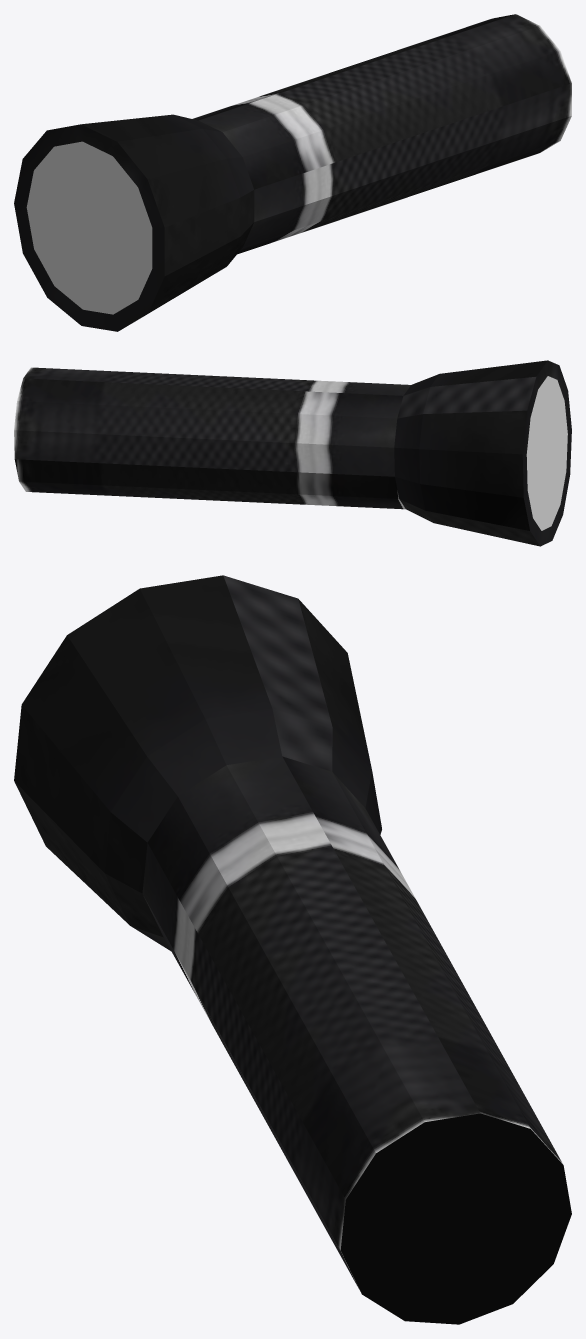
File: Flashlight.glb
The picture shows the model from 3 angles, top to bottom: view 1: azimuth 30°, elevation 25°; view 2: azimuth 150°, elevation 25°; view 3: azimuth 270°, elevation 25°; orthographic projection. The views are drawn at different scales.
Visible parts, largest first — view 1: Cylinder; view 2: Cylinder; view 3: Cylinder.
Boxes of the visible parts, left/top/right/bottom form: Cylinder: left=14, top=14, right=571, bottom=331; Cylinder: left=14, top=360, right=571, bottom=546; Cylinder: left=14, top=575, right=571, bottom=1324.
Size of the model in its own units: 0.5038 by 0.1733 by 0.2618.
1 material, 1 textured.
